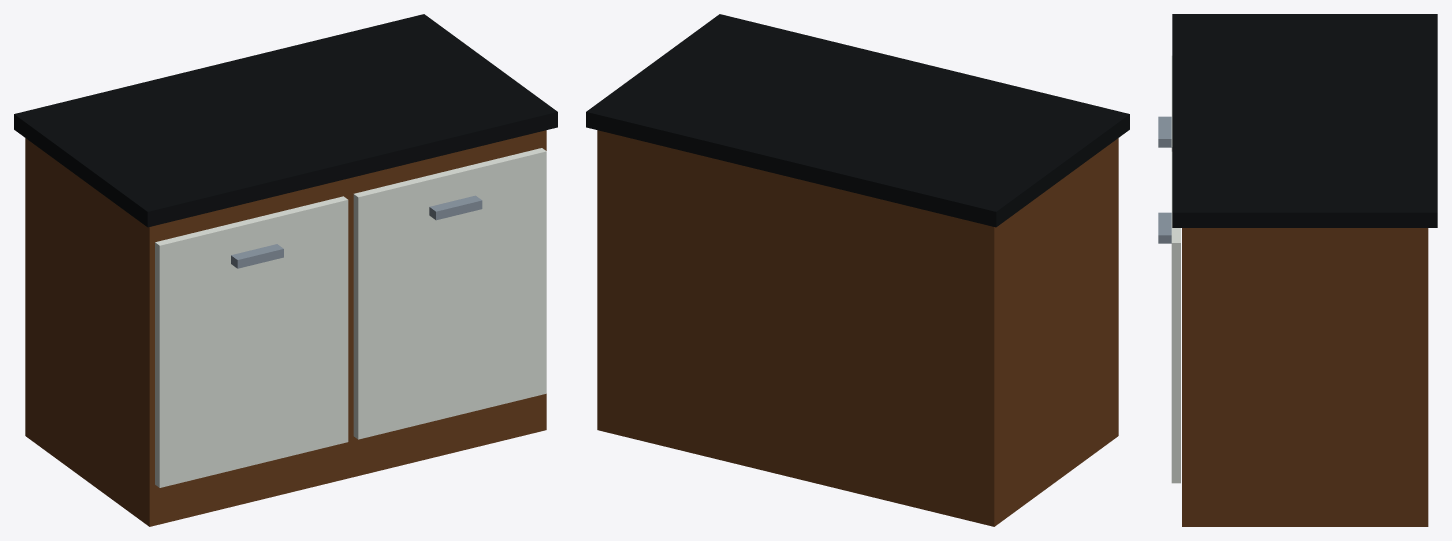
The model's file is counter.glb.
3 renders of one model, left to right at view 1: azimuth 30°, elevation 25°; view 2: azimuth 150°, elevation 25°; view 3: azimuth 270°, elevation 25°, orthographic.
Parts seen in each view (by area): view 1: Top, Cabinet, _MeshInstance3D_8, Door, _MeshInstance3D_9, Handle; view 2: Cabinet, Top; view 3: Cabinet, Top, _MeshInstance3D_8, Handle, _MeshInstance3D_9.
Part boxes in pixels (left/top/right/bottom): Top: left=14, top=14, right=557, bottom=227; Cabinet: left=25, top=130, right=546, bottom=526; _MeshInstance3D_8: left=353, top=148, right=546, bottom=439; Door: left=155, top=196, right=348, bottom=487; _MeshInstance3D_9: left=429, top=195, right=482, bottom=220; Handle: left=231, top=244, right=283, bottom=268; Cabinet: left=597, top=130, right=1118, bottom=526; Top: left=586, top=14, right=1129, bottom=227; Cabinet: left=1182, top=228, right=1428, bottom=526; Top: left=1172, top=14, right=1437, bottom=227; _MeshInstance3D_8: left=1171, top=152, right=1180, bottom=483; Handle: left=1158, top=116, right=1171, bottom=147; _MeshInstance3D_9: left=1158, top=212, right=1171, bottom=243.
Bounding box in the file's own units: 1.24 × 0.925 × 0.7375.
